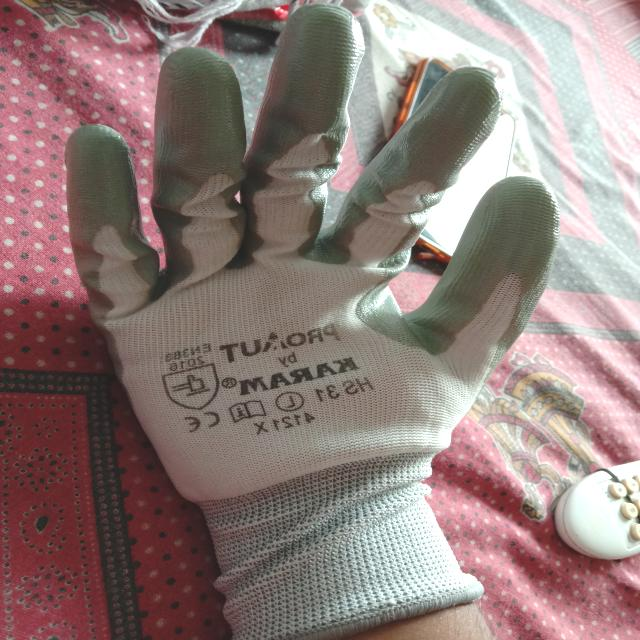glove: (58, 0, 570, 638)
